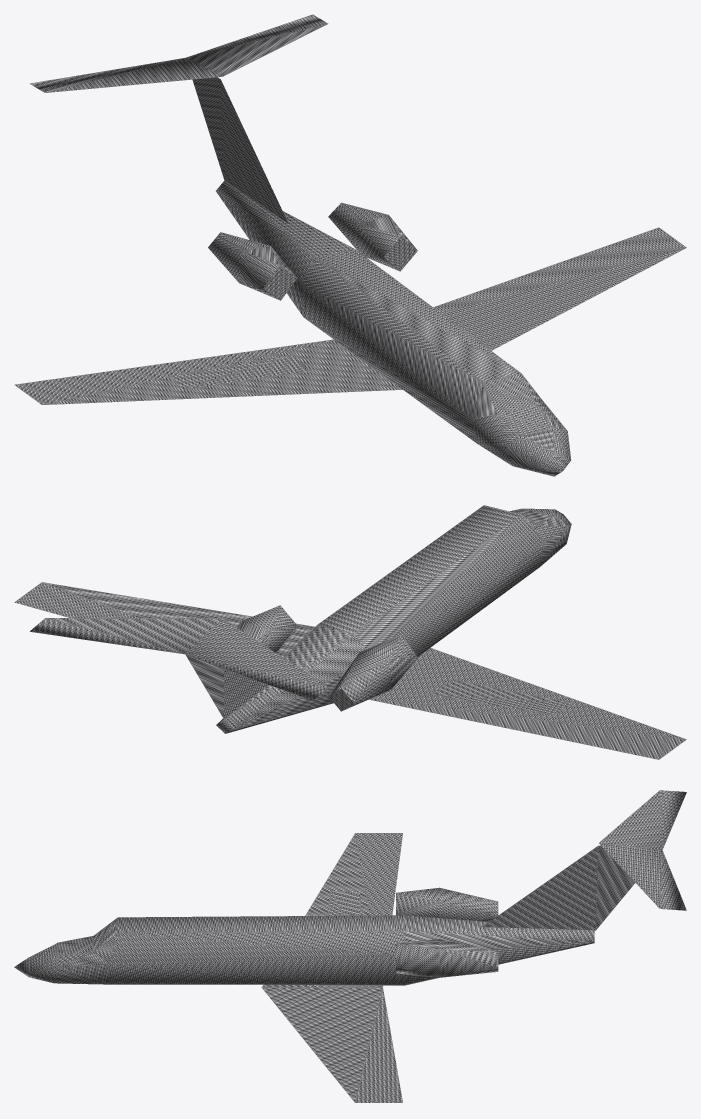
3 views of the same model, one above another, from view 1: azimuth 30°, elevation 25°; view 2: azimuth 150°, elevation 25°; view 3: azimuth 270°, elevation 25° (orthographic). The views are drawn at different scales.
Visible parts, largest first — view 1: Fuselage; view 2: Fuselage; view 3: Fuselage.
Part boxes in pixels (bbox=[...]): Fuselage: bbox=[14, 14, 686, 476]; Fuselage: bbox=[14, 505, 686, 759]; Fuselage: bbox=[14, 790, 686, 1102].
Bounding box in the file's own units: 15.4 × 3.89 × 16.22.
